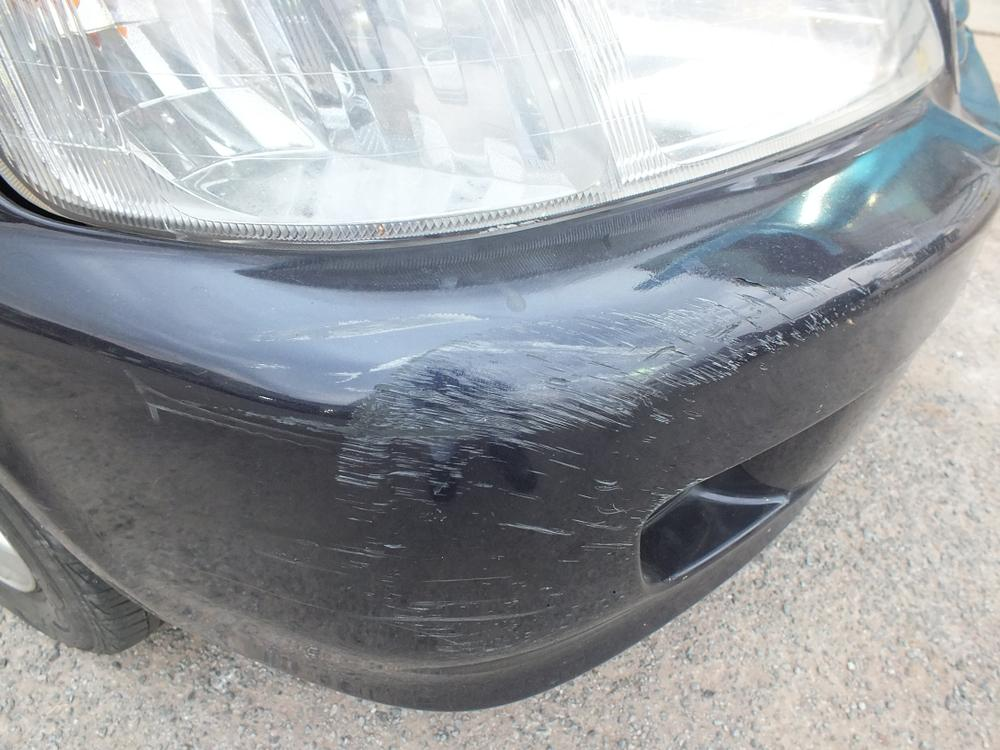scratch: (148, 251, 909, 652)
